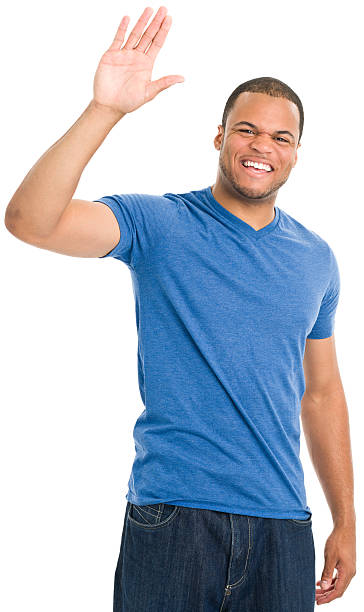open_hand: (87, 5, 196, 116)
